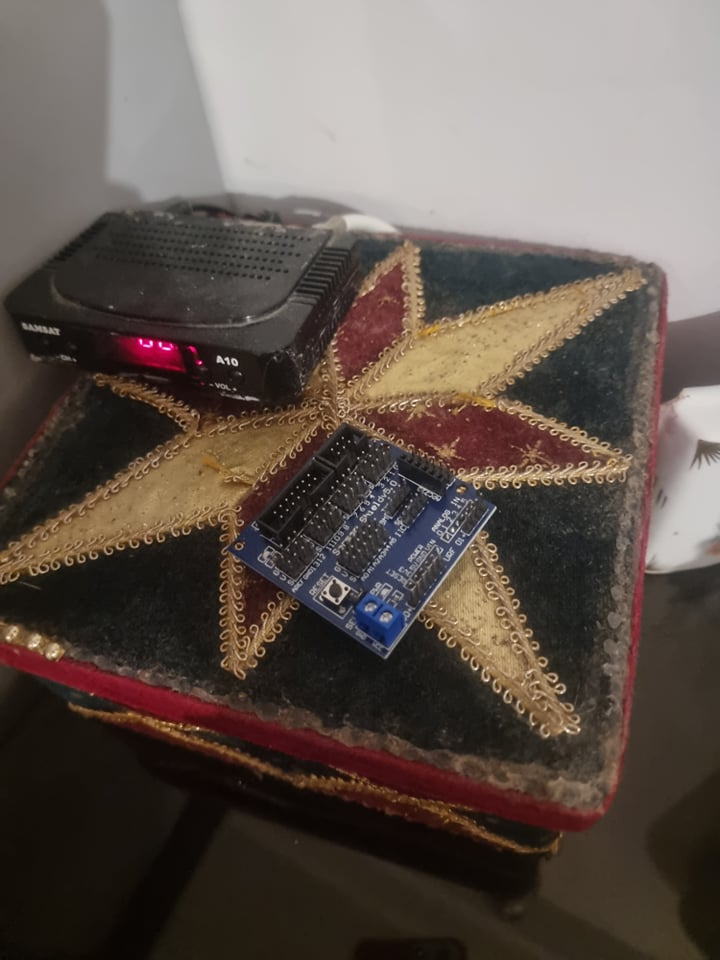5V EXPANSION: (228, 427, 497, 661)
